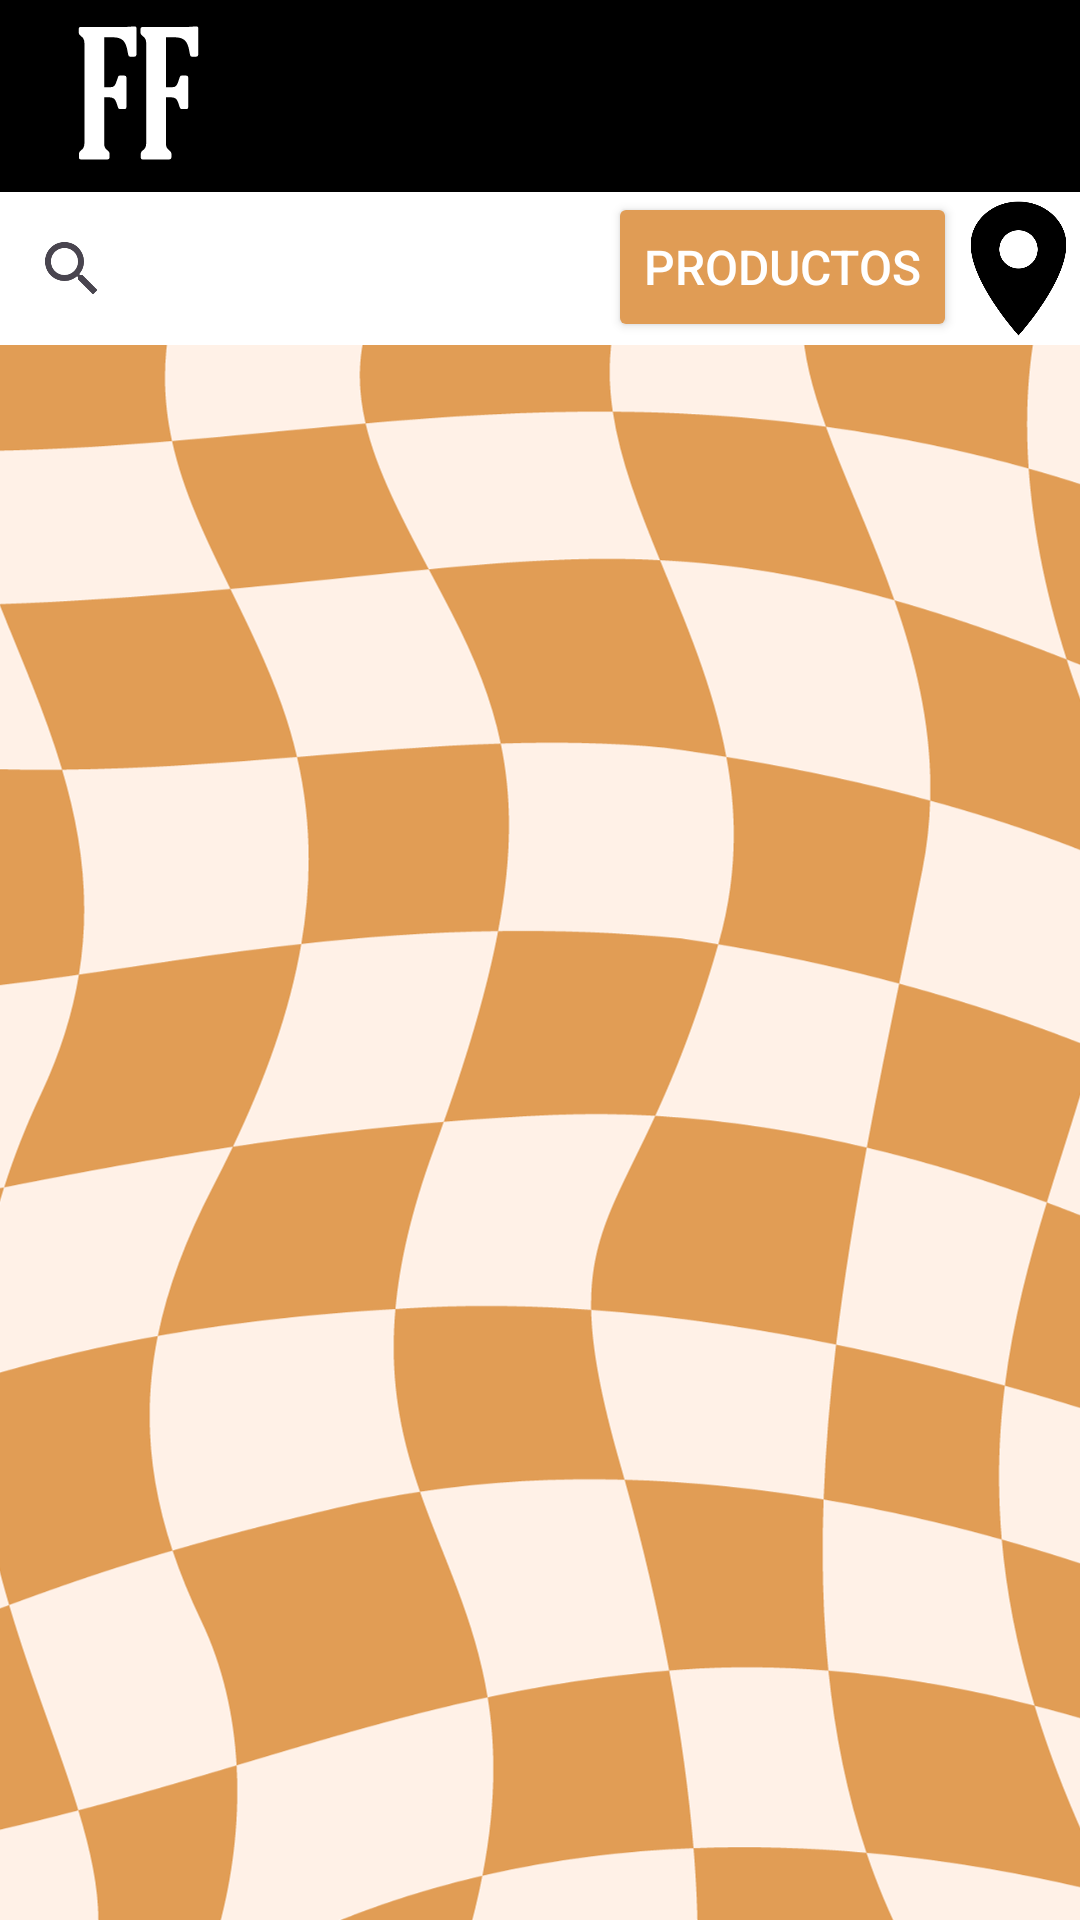

Screen size 1080px x 1920px. Icon name, then its box in pixels as (x1, y1, x2, y2):
localization: (971, 201, 1066, 336)
